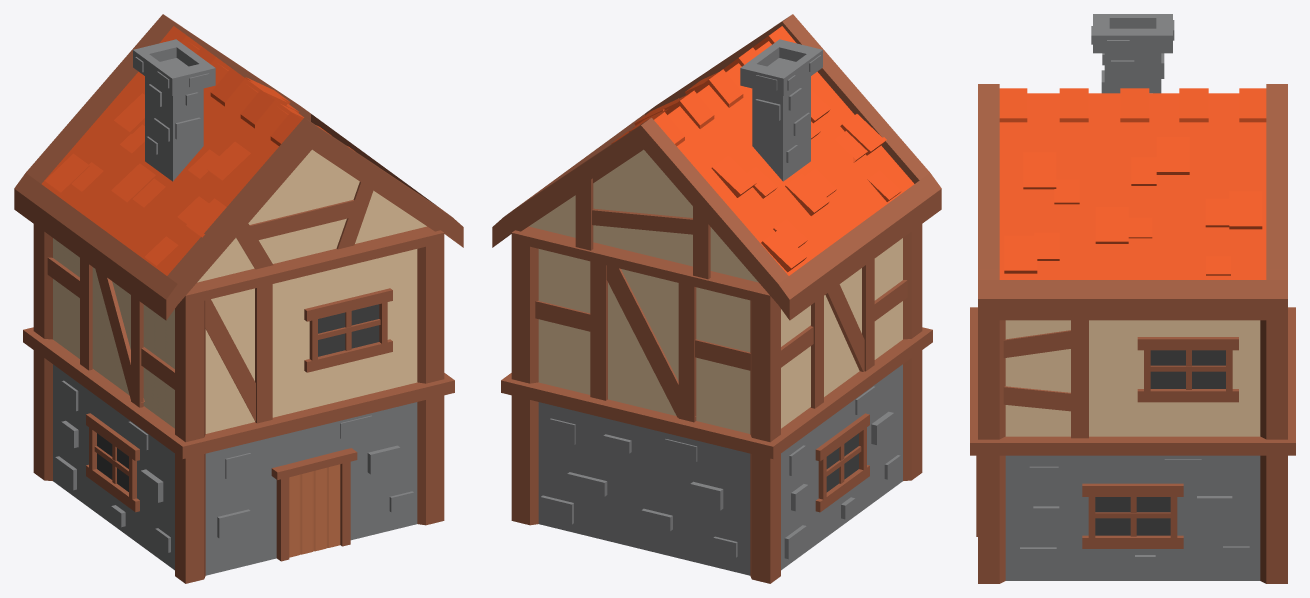
The model's file is HouseNormal.fbx.
3 views of the same model, side by side, from view 1: azimuth 30°, elevation 25°; view 2: azimuth 150°, elevation 25°; view 3: azimuth 270°, elevation 25° (orthographic).
Visible parts, largest first — view 1: HouseNormal; view 2: HouseNormal; view 3: HouseNormal.
Boxes of the visible parts, x1,y1,x2,y2 form: HouseNormal: [14, 14, 463, 583]; HouseNormal: [492, 14, 941, 583]; HouseNormal: [970, 14, 1295, 583].
Size of the model in its own units: 801 by 1167 by 745.
